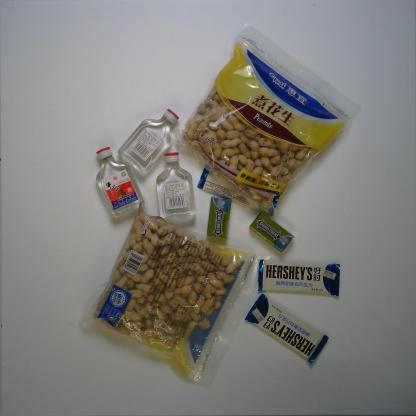Alcohol: (117, 107, 180, 178), (93, 146, 146, 218), (155, 151, 197, 222)
Chocolate: (244, 293, 330, 365), (197, 164, 282, 217), (256, 258, 341, 297)
Dried Food: (80, 196, 273, 389), (176, 18, 362, 218)
Gum: (248, 211, 295, 254), (206, 197, 233, 240)
